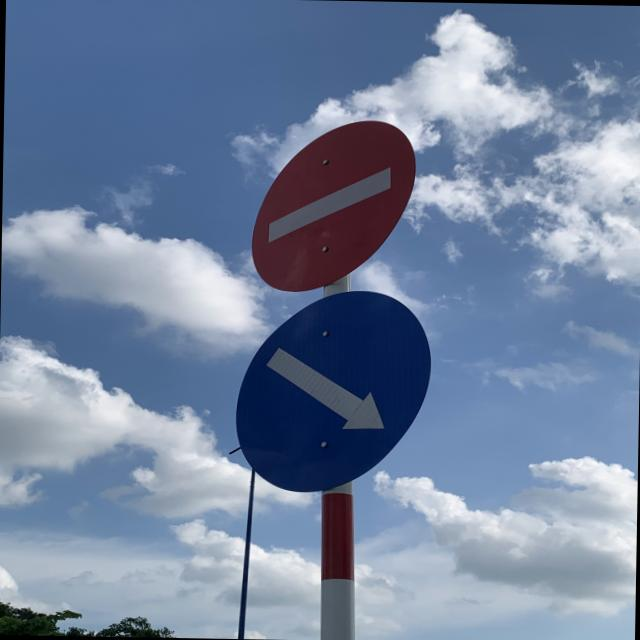Cam_Di_Nguoc_Chieu: (250, 116, 420, 290)
Chi_Huong_Di_Phai: (232, 290, 434, 500)
